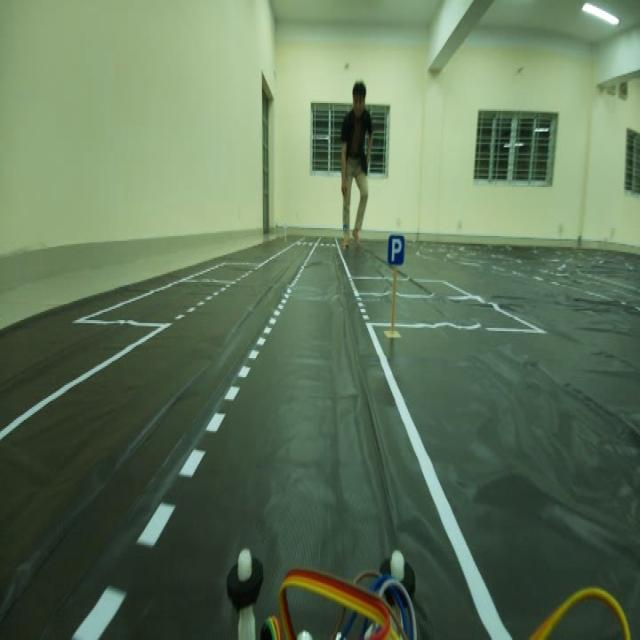parking: (382, 227, 407, 267)
